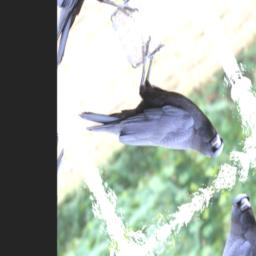Crow: (70, 15, 230, 236)
